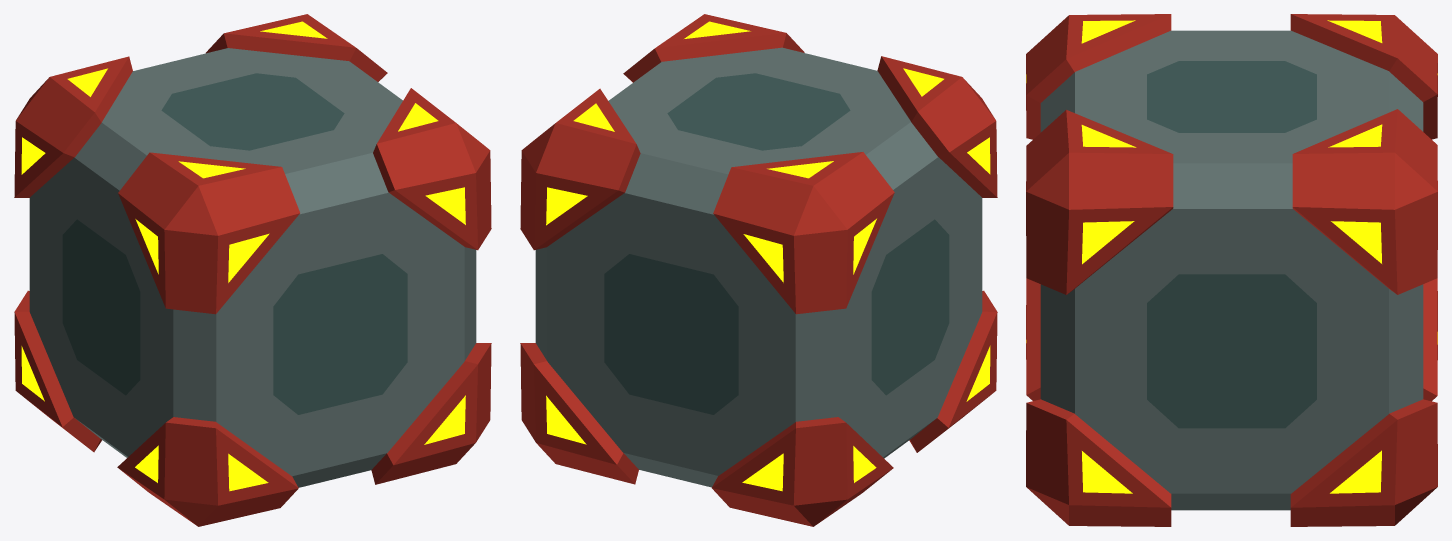
The picture shows the model from 3 angles, left to right: view 1: azimuth 30°, elevation 25°; view 2: azimuth 150°, elevation 25°; view 3: azimuth 270°, elevation 25°; orthographic projection. The views are drawn at different scales.
Visible parts, largest first — view 1: Cube.020; view 2: Cube.020; view 3: Cube.020.
Boxes of the visible parts, bbox=[...] form: Cube.020: bbox=[14, 14, 491, 526]; Cube.020: bbox=[520, 14, 997, 526]; Cube.020: bbox=[1026, 14, 1437, 526].
Size of the model in its own units: 215 by 215 by 215.
